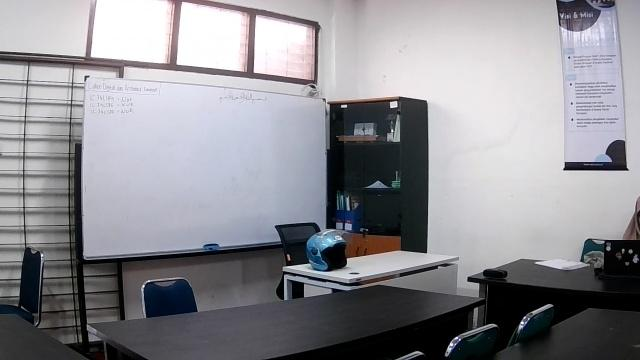Meja: (282, 249, 460, 302)
Whiteboard: (79, 75, 328, 262)
